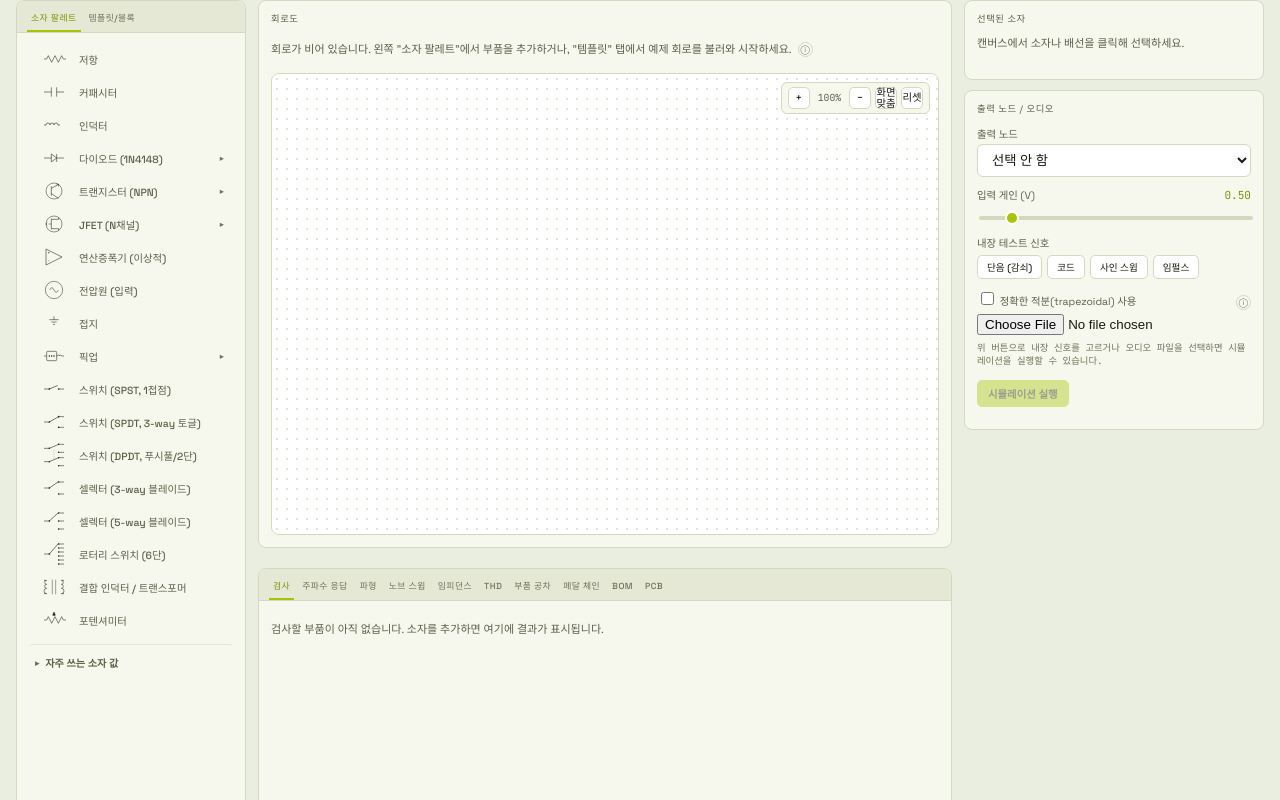
Test case: SchematicEditor › 새 회로 clears the canvas when the user confirms
(page scrolled)
Click the button "저항".
click(131, 59)  # box [29, 43, 233, 75]
(page scrolled)
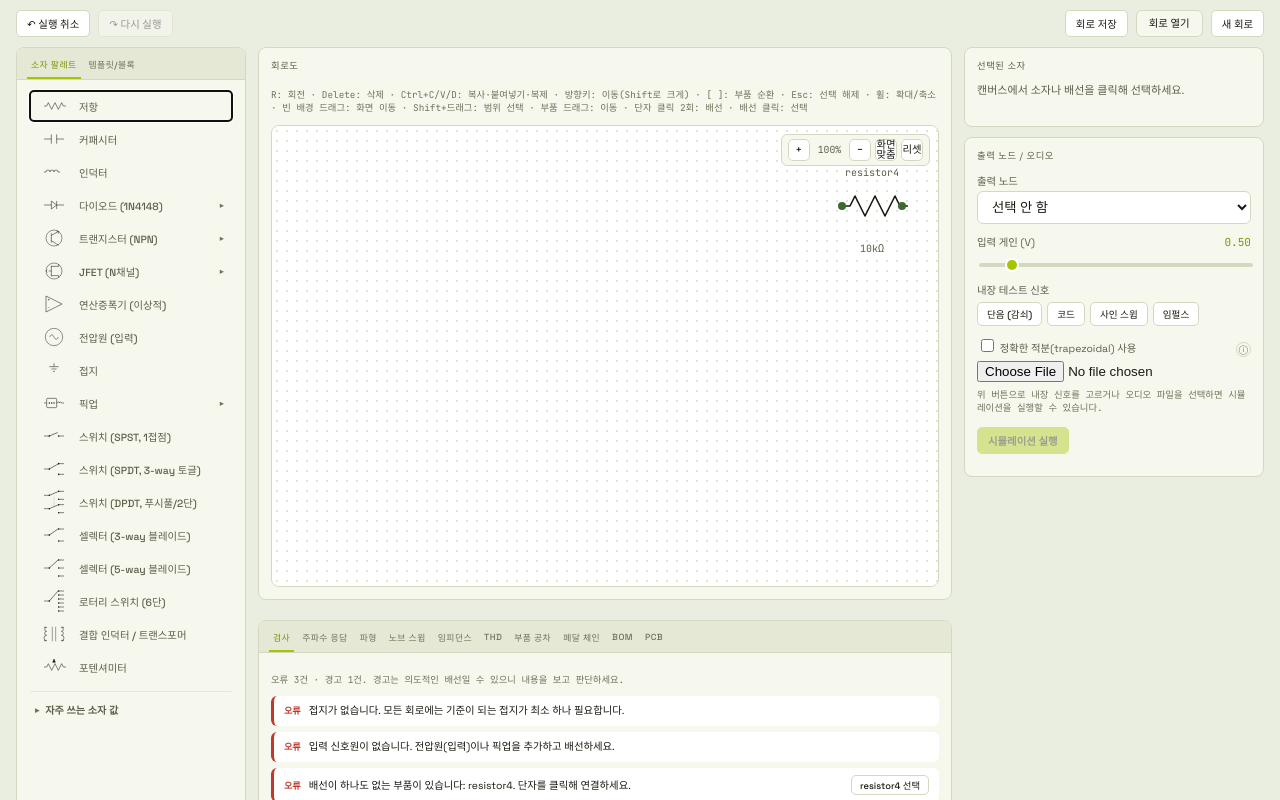
Click the button "새 회로".
click(1237, 24)  # box [1211, 10, 1264, 37]
(page scrolled)
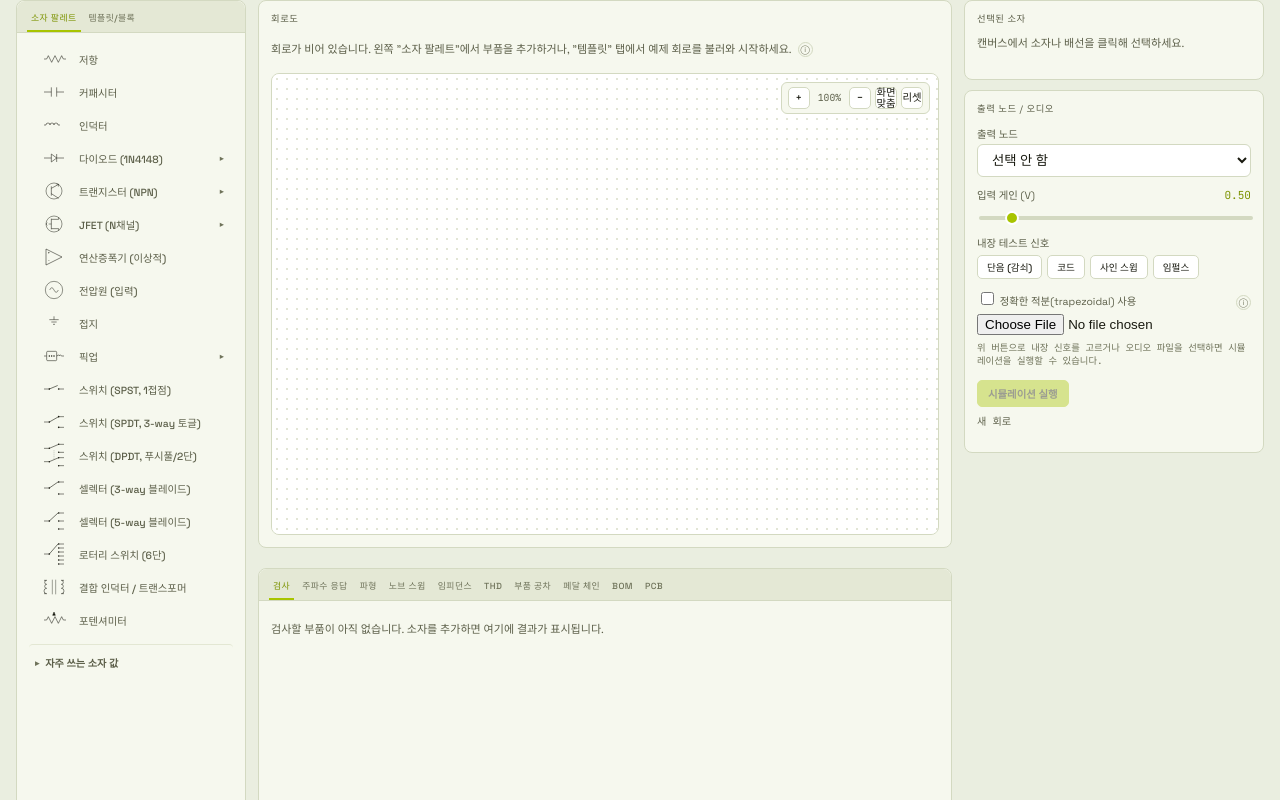
Expected: the text "회로가 비어 있습니다" is shown, [271, 42, 792, 56]
